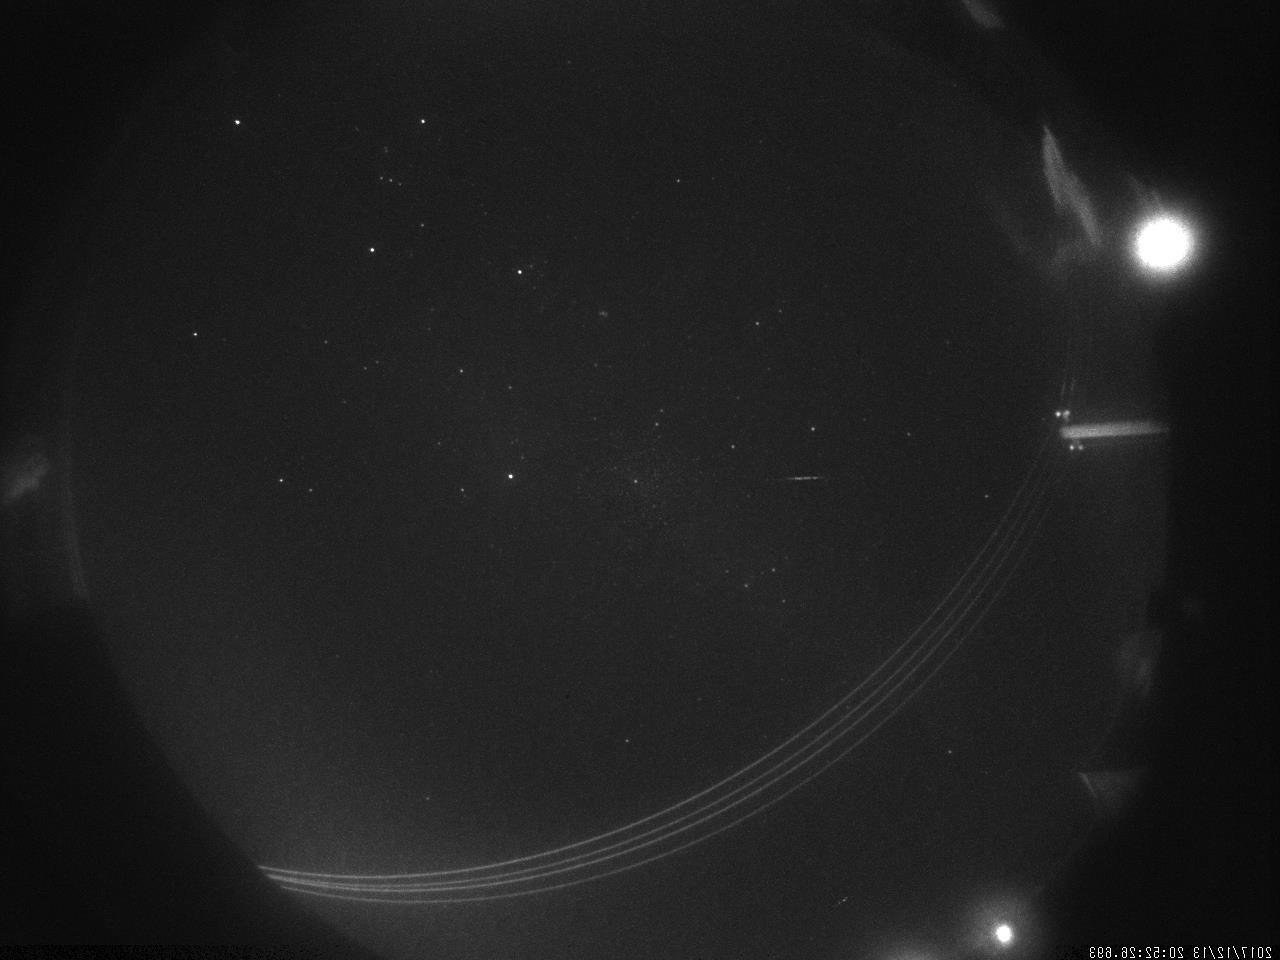meteor: (762, 468, 855, 486)
